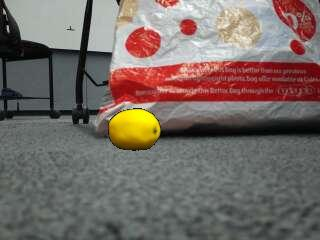lemon: (108, 110, 159, 151)
